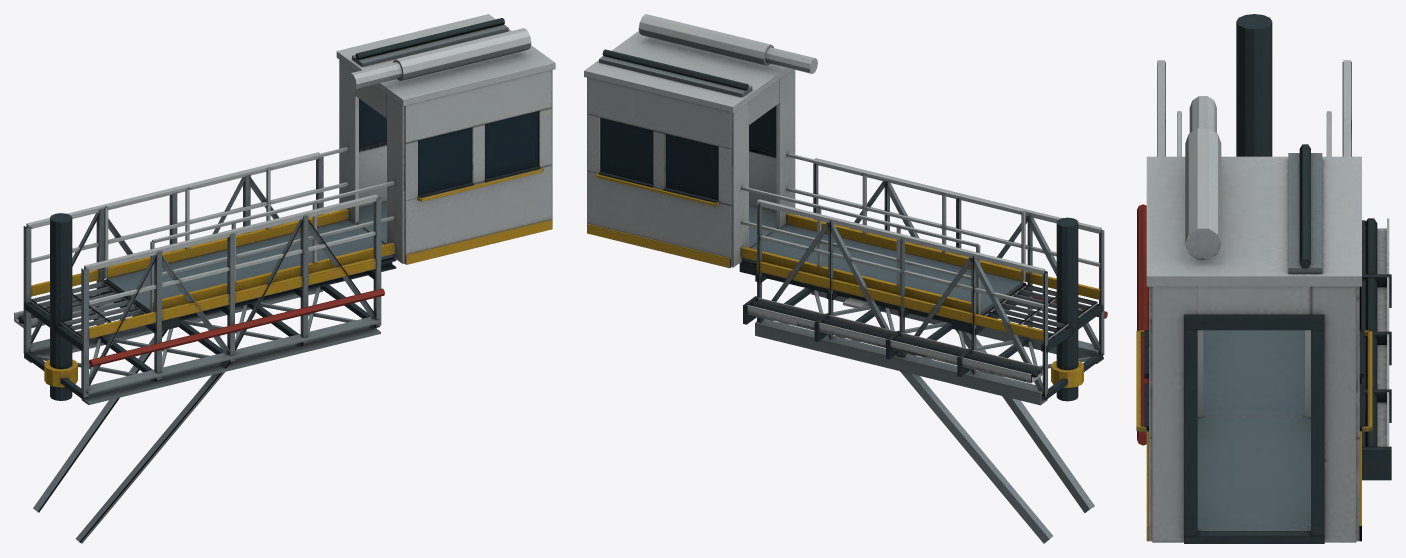
File: access_crew_arm_v5.glb
The picture shows the model from 3 angles, left to right: view 1: azimuth 30°, elevation 25°; view 2: azimuth 150°, elevation 25°; view 3: azimuth 270°, elevation 25°; orthographic projection. The views are drawn at different scales.
Visible parts, largest first — view 1: white_room, fixed; view 2: white_room, fixed; view 3: white_room, fixed.
Part boxes in pixels (x1,y1,x2,y2): white_room: [104, 14, 555, 330]; fixed: [14, 152, 384, 543]; white_room: [584, 14, 1025, 332]; fixed: [743, 158, 1107, 543]; white_room: [1136, 96, 1372, 543]; fixed: [1137, 14, 1391, 480].
Size of the model in its own units: 7.86 by 6.32 by 2.25.
Materials: 2 (2 with a texture image).
